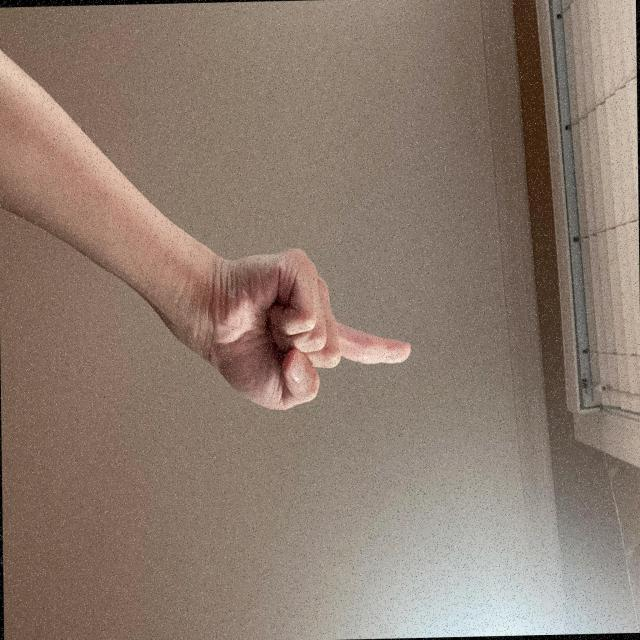Z: (332, 299, 475, 576)
